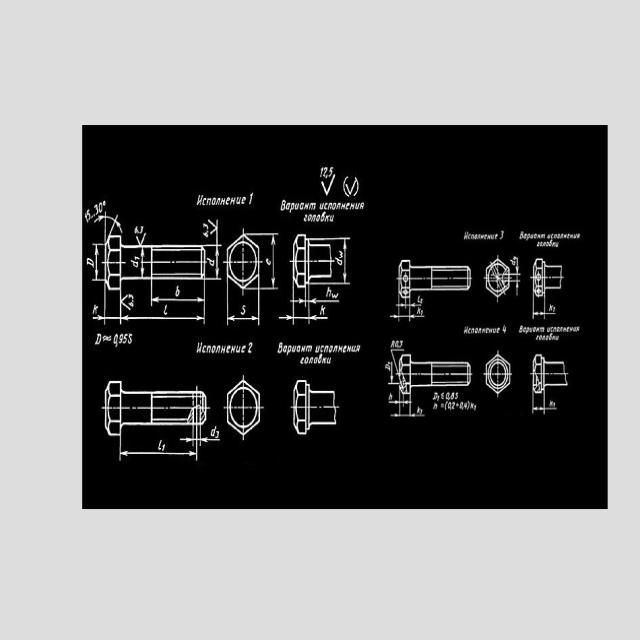marking_line: (118, 291, 206, 325), (278, 288, 340, 326), (118, 438, 201, 462), (150, 281, 206, 307), (225, 290, 261, 327), (92, 291, 130, 326), (261, 232, 279, 291), (332, 237, 352, 286), (178, 426, 221, 447), (389, 298, 425, 323), (390, 395, 427, 418), (94, 210, 124, 235), (531, 394, 559, 416), (205, 244, 222, 280), (92, 288, 108, 324), (532, 297, 557, 320), (92, 242, 104, 281), (539, 298, 556, 321), (311, 236, 353, 244), (311, 279, 352, 287), (309, 296, 340, 306), (395, 299, 422, 309), (388, 396, 412, 407), (388, 362, 399, 385), (209, 219, 219, 244), (510, 257, 521, 276), (511, 279, 520, 296), (140, 249, 145, 277), (310, 315, 329, 322), (289, 297, 303, 305), (277, 314, 291, 321)
numeric: (247, 341, 253, 353), (118, 334, 124, 344), (98, 201, 103, 213), (249, 192, 253, 205), (499, 229, 504, 239), (123, 333, 128, 343), (329, 167, 334, 177), (85, 213, 89, 225), (139, 225, 144, 234), (324, 166, 328, 177), (203, 230, 208, 238), (88, 208, 91, 221), (503, 324, 507, 333), (114, 335, 118, 344), (95, 203, 98, 215), (134, 225, 138, 234), (203, 224, 209, 230), (320, 167, 323, 178)
special_symbol: (321, 175, 335, 196), (346, 180, 357, 196), (136, 232, 146, 245), (354, 176, 360, 196), (343, 176, 348, 198), (103, 200, 106, 206)
